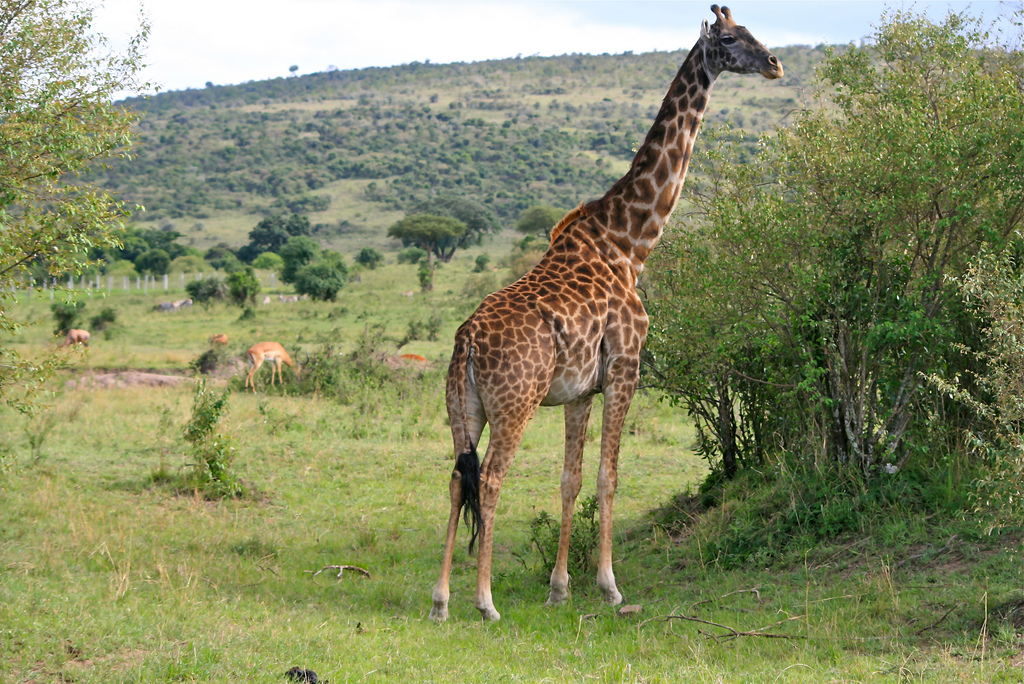giraffe: (405, 1, 789, 630)
